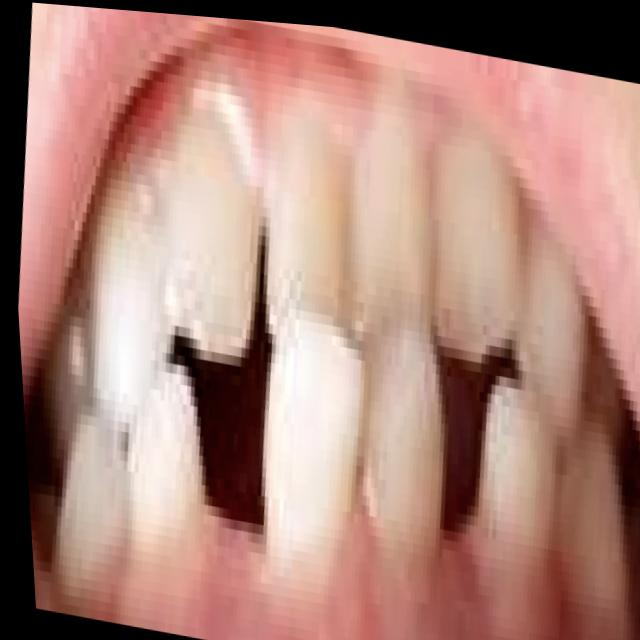hypodontia: (403, 369, 508, 626), (179, 353, 283, 597)
